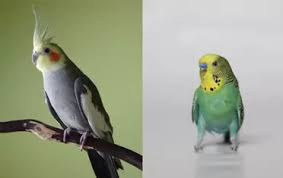budgie: (188, 53, 246, 154)
